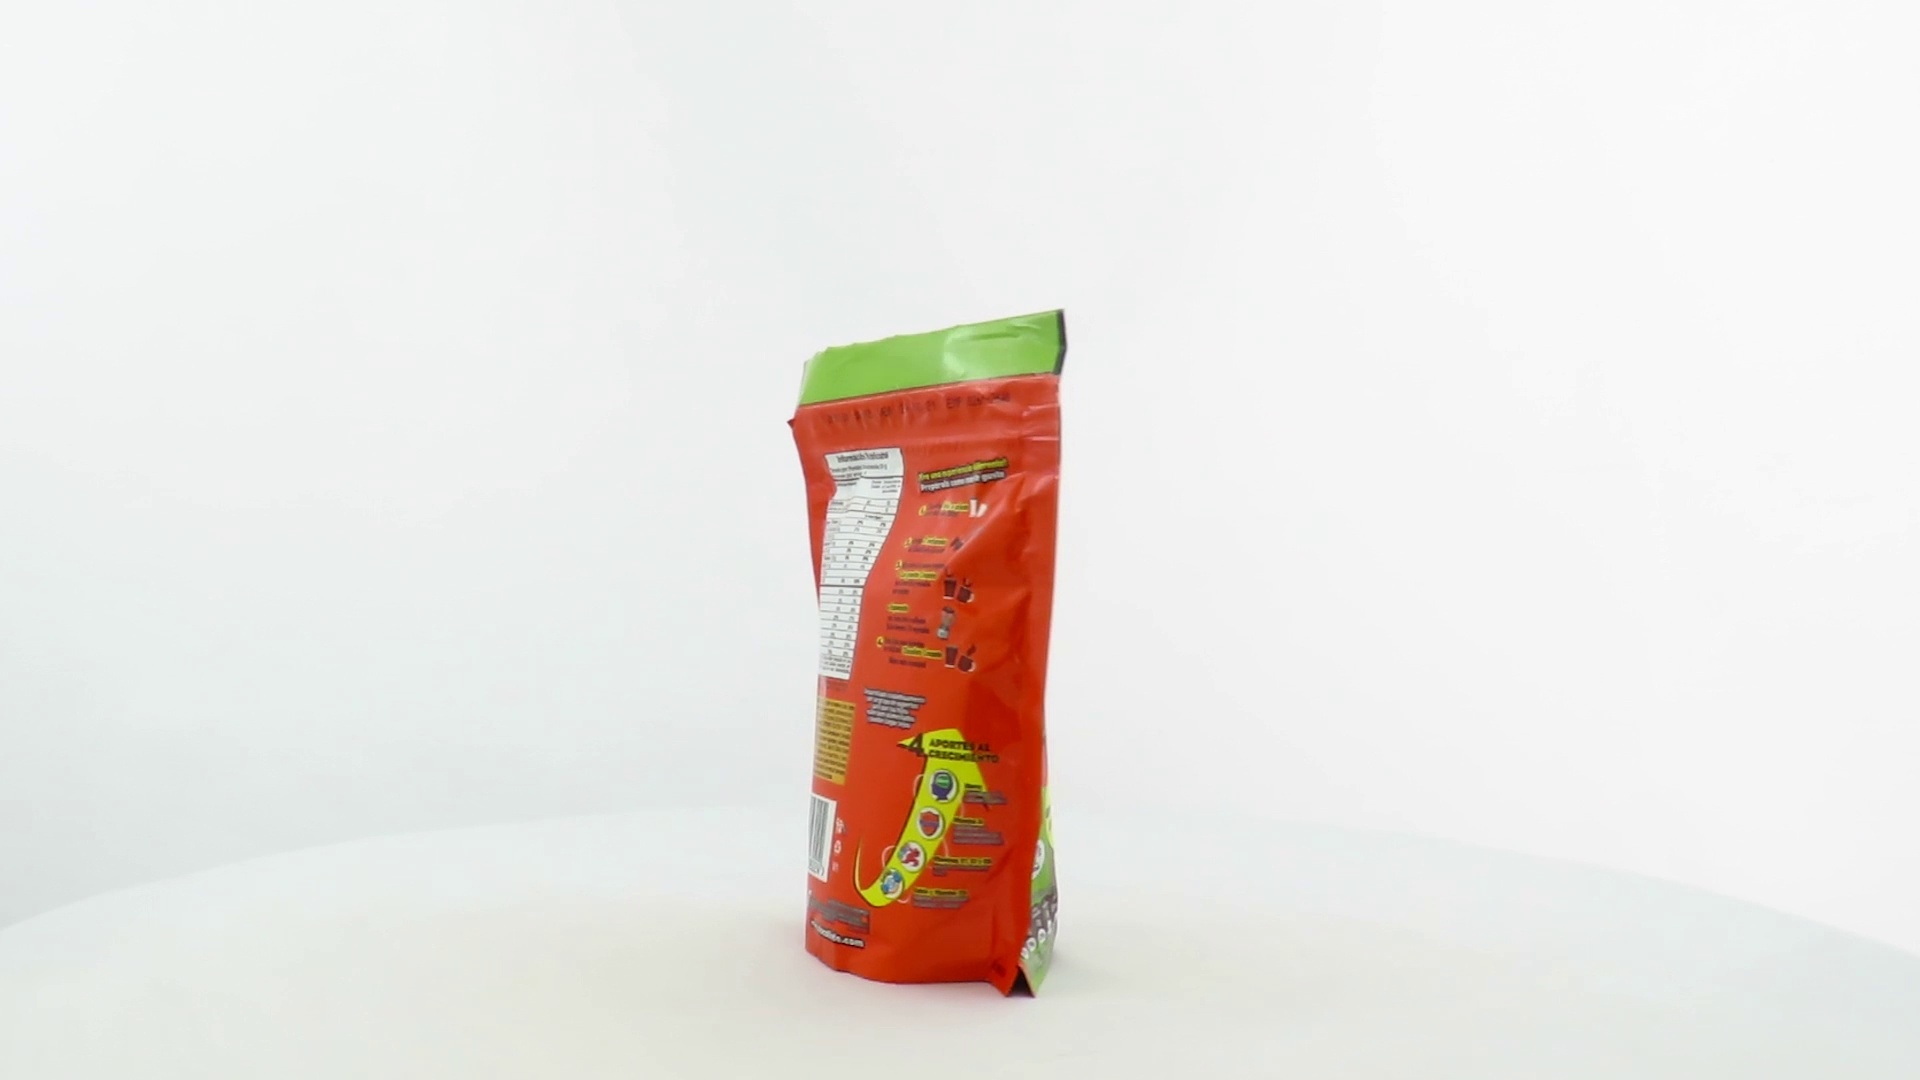COL0170102DYP10000: (782, 305, 1073, 1004)
